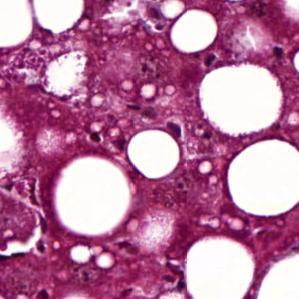steatosis: (125, 129, 182, 182), (169, 9, 219, 54)
